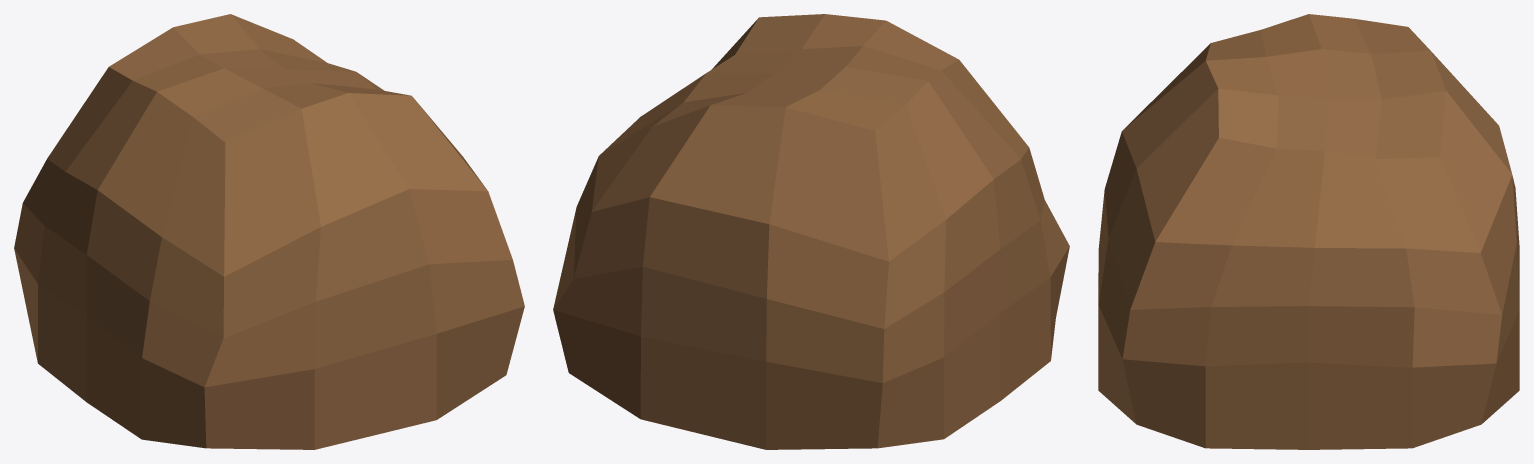
Rendered from ground2.glb.
3 views of the same model, side by side, from view 1: azimuth 30°, elevation 25°; view 2: azimuth 150°, elevation 25°; view 3: azimuth 270°, elevation 25° (orthographic). The views are drawn at different scales.
Visible parts, largest first — view 1: Ground2; view 2: Ground2; view 3: Ground2.
Part boxes in pixels (bbox=[...]): Ground2: bbox=[14, 14, 524, 449]; Ground2: bbox=[553, 14, 1069, 449]; Ground2: bbox=[1098, 14, 1519, 449].
Size of the model in its own units: 2 by 1.53 by 2.
Materials: 1 (1 with a texture image).
